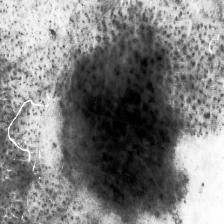Benign Marking or Mole: (60, 28, 189, 224)
